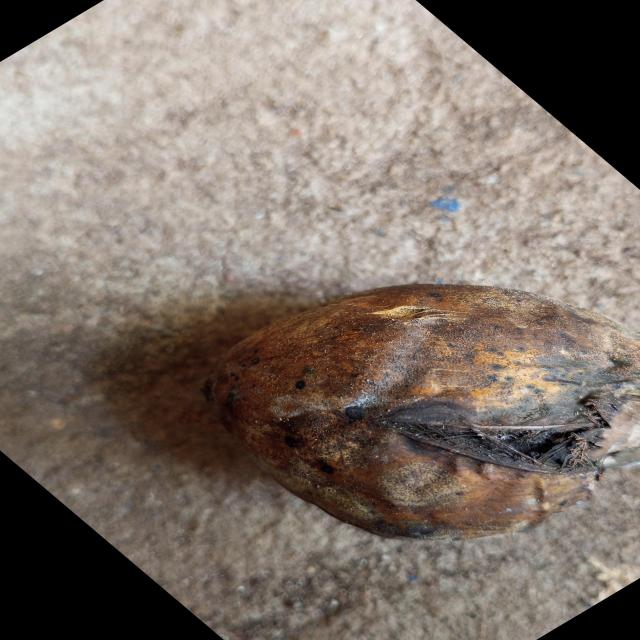damaged: (199, 283, 640, 543)
